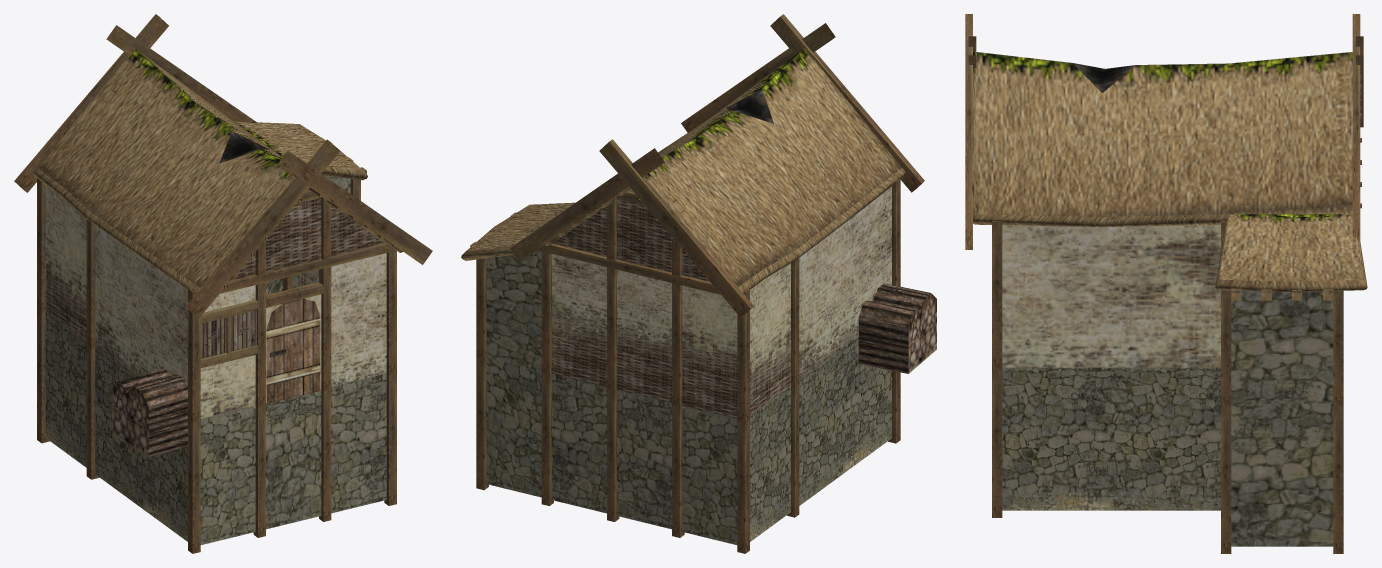
The model's file is house_a_2.dae.
The picture shows the model from 3 angles, left to right: view 1: azimuth 30°, elevation 25°; view 2: azimuth 150°, elevation 25°; view 3: azimuth 270°, elevation 25°; orthographic projection. The views are drawn at different scales.
Visible parts, largest first — view 1: House_A; view 2: House_A; view 3: House_A.
Part boxes in pixels (bbox=[...]): House_A: bbox=[14, 14, 432, 553]; House_A: bbox=[461, 14, 936, 553]; House_A: bbox=[965, 14, 1367, 553].
Size of the model in its own units: 13.12 by 12.47 by 15.03.
